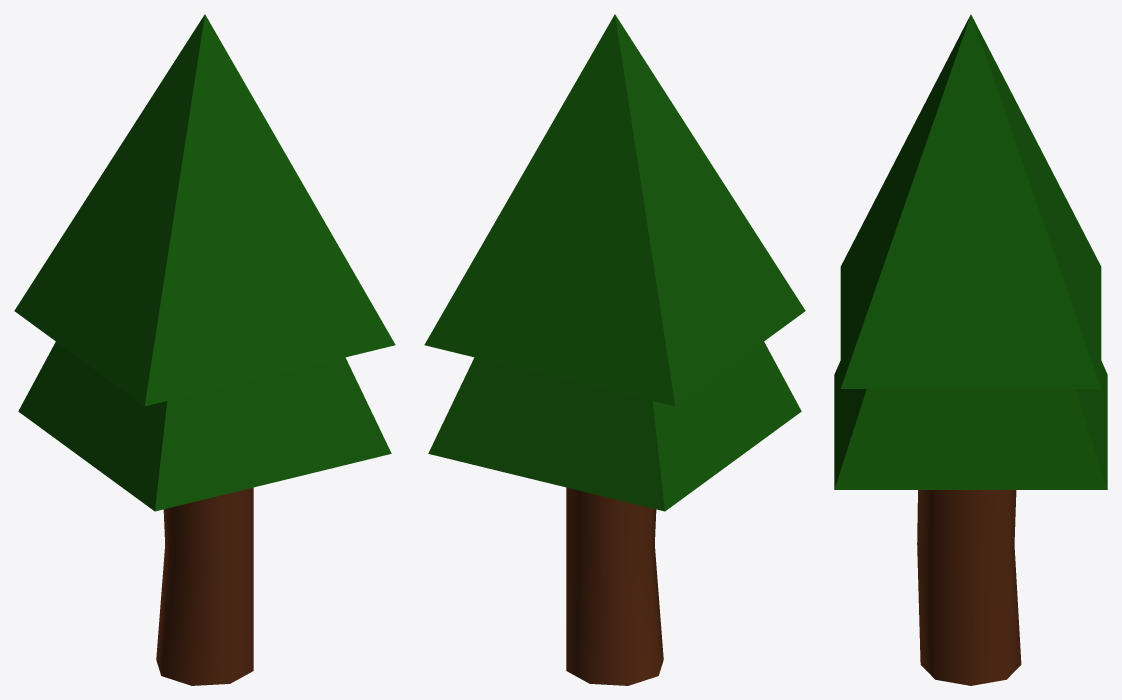
The model's file is tree2.fbx.
3 views of the same model, side by side, from view 1: azimuth 30°, elevation 25°; view 2: azimuth 150°, elevation 25°; view 3: azimuth 270°, elevation 25° (orthographic).
Visible parts, largest first — view 1: 큐브.001, 큐브, 실린더; view 2: 큐브.001, 큐브, 실린더; view 3: 큐브.001, 큐브, 실린더.
Part boxes in pixels (box(x1,y1,x2,y2)): 큐브.001: box(14, 14, 395, 406); 큐브: box(18, 342, 391, 511); 실린더: box(156, 487, 253, 685); 큐브.001: box(424, 14, 805, 406); 큐브: box(428, 342, 801, 511); 실린더: box(566, 487, 663, 685); 큐브.001: box(840, 14, 1101, 388); 큐브: box(834, 361, 1107, 489); 실린더: box(917, 490, 1021, 685).
Bounding box in the file's own units: 574 × 1424 × 542.
